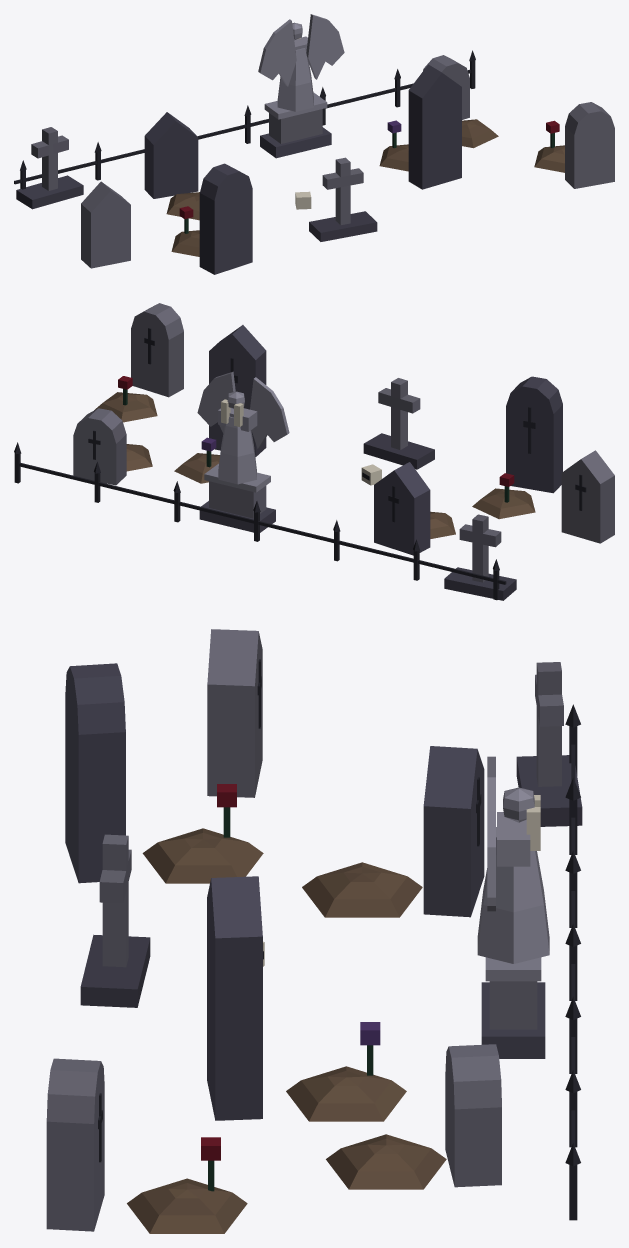
Rendered from Decor_VampireCrypt_Graves.fbx.
The picture shows the model from 3 angles, top to bottom: view 1: azimuth 30°, elevation 25°; view 2: azimuth 150°, elevation 25°; view 3: azimuth 270°, elevation 25°; orthographic projection. The views are drawn at different scales.
Parts seen in each view (by area): view 1: Graves_Body; view 2: Graves_Body; view 3: Graves_Body.
Boxes of the visible parts, x1,y1,x2,y2 form: Graves_Body: (14,14,614,274); Graves_Body: (14,303,614,600); Graves_Body: (46,629,582,1233).
Size of the model in its own units: 27.7 by 7.2 by 13.2.
